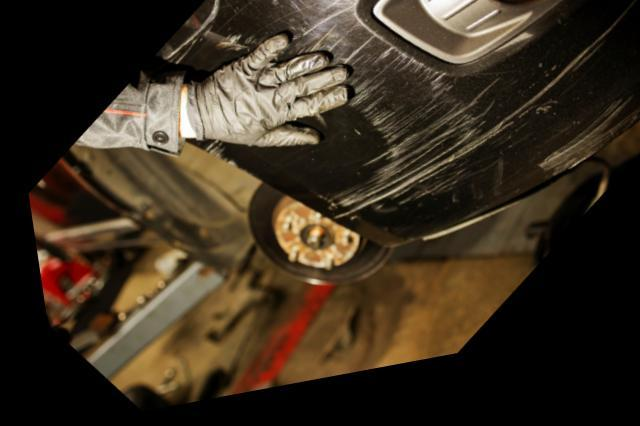scratch: (216, 9, 640, 229)
